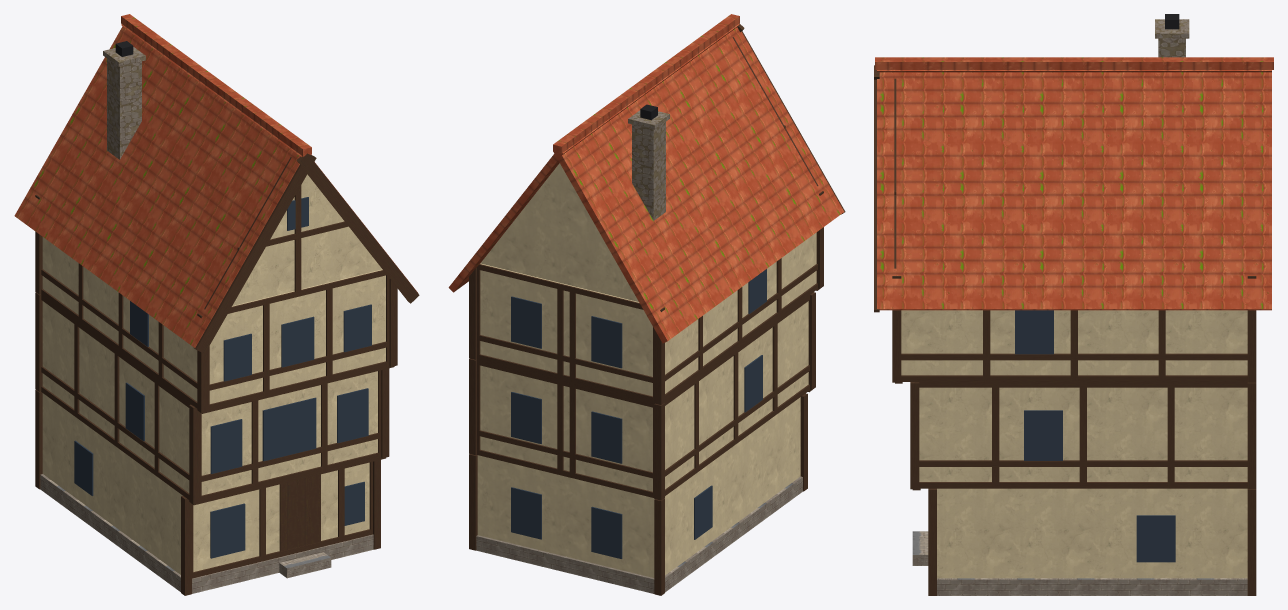
The model's file is tall_house.glb.
The picture shows the model from 3 angles, left to right: view 1: azimuth 30°, elevation 25°; view 2: azimuth 150°, elevation 25°; view 3: azimuth 270°, elevation 25°; orthographic projection. The views are drawn at different scales.
Visible parts, largest first — view 1: tall_house; view 2: tall_house; view 3: tall_house.
Part boxes in pixels (box(x1,y1,x2,y2)): tall_house: box(14, 14, 419, 595); tall_house: box(448, 14, 845, 595); tall_house: box(874, 14, 1273, 595).
Size of the model in its own units: 7.1 by 13.87 by 10.02.
Materials: 7 (5 with a texture image).
